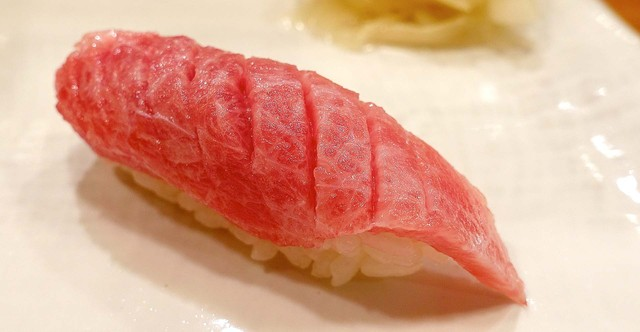medium_fatty_tuna: (55, 26, 532, 324)
